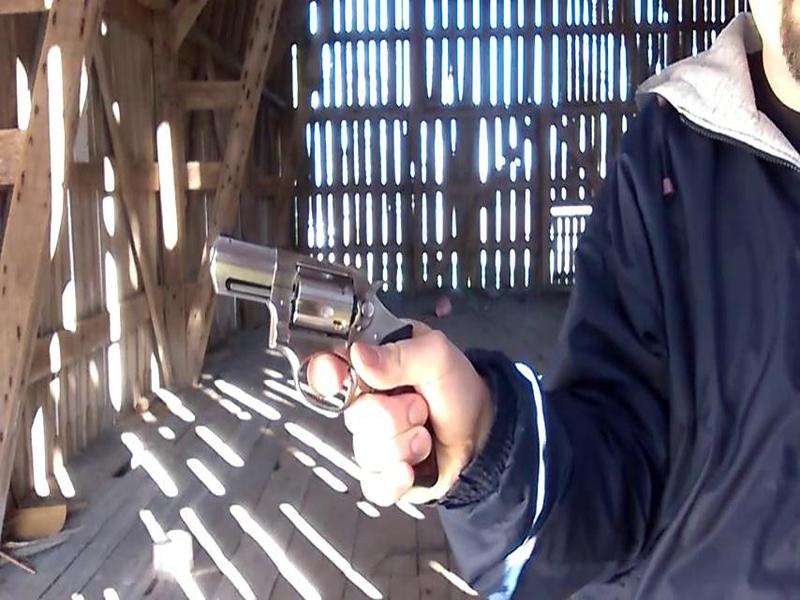Revolver: (205, 224, 434, 441)
